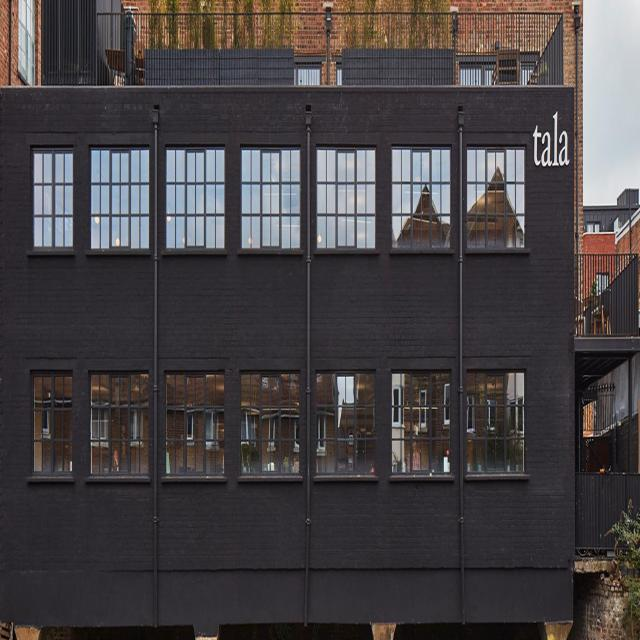Railing: (95, 12, 564, 91), (576, 465, 640, 551), (576, 251, 639, 337)
wall: (0, 13, 640, 627)
windows: (316, 372, 378, 471), (88, 374, 149, 474), (239, 374, 300, 474), (393, 152, 454, 252), (89, 149, 150, 248), (240, 148, 301, 247), (317, 145, 378, 244), (392, 379, 453, 478), (467, 150, 528, 249), (466, 377, 527, 476), (166, 372, 224, 472), (167, 147, 225, 246), (31, 150, 76, 253), (31, 375, 75, 479)
